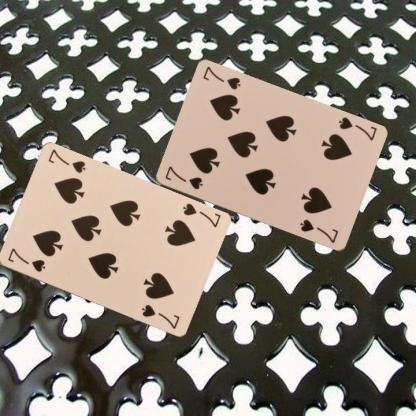7s: (179, 200, 222, 229), (4, 245, 46, 273), (335, 115, 378, 142), (162, 164, 204, 190)
